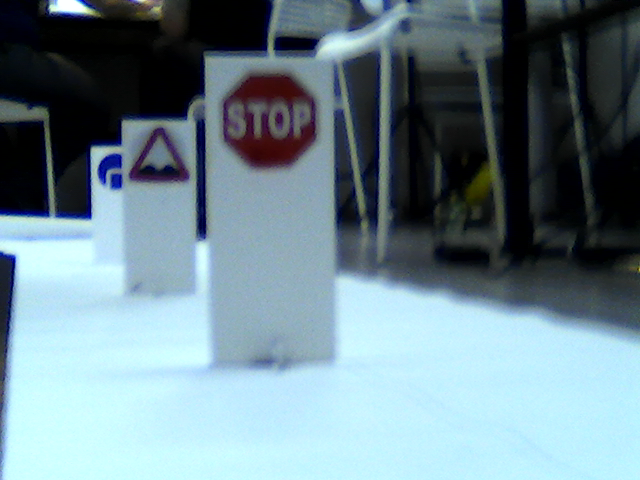Nerov: (129, 129, 188, 181)
Stop: (216, 68, 321, 171)
